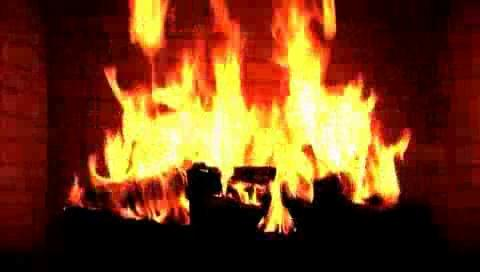fire: (97, 67, 409, 223), (118, 2, 349, 64)
